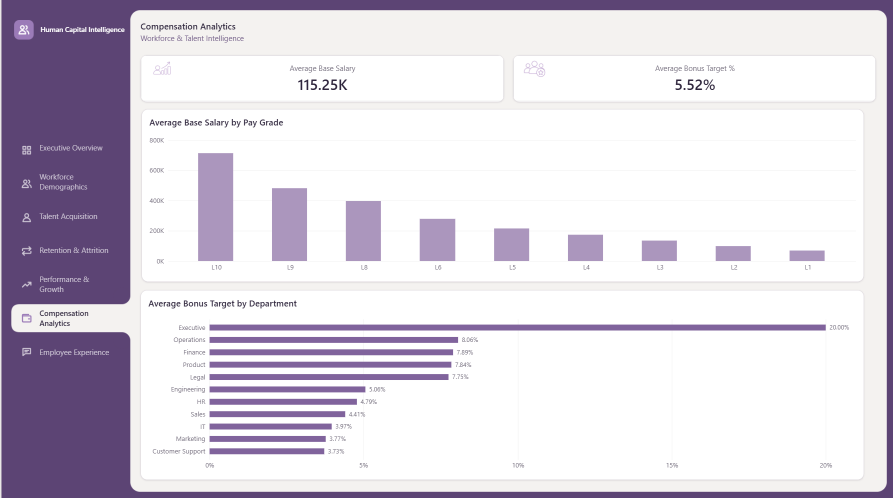

The dashboard page shown, as its layout file describes it:
{"tool":"powerbi","page":{"name":"Compensation Analytics","canvas":[1920,1080],"ordinal":6},"visuals":[{"type":"clusteredColumnChart","title":"Average Base Salary by Pay Grade","fields":{"Category":["fact_compensation_history.PayGrade"],"Y":["fact_promotions.Average Base Salary"]},"box":[300,235.7,1547.1,370.7],"z":0},{"type":"clusteredBarChart","title":"Average Bonus Target by Department","fields":{"Category":["dim_departments.DepartmentName"],"Y":["fact_compensation_history.Average Bonus Target %"]},"box":[297.9,623.6,1549.3,407.1],"z":1000},{"type":"textbox","title":"Company","box":[83,54,266,25],"z":2000},{"type":"textbox","title":"Page title","box":[298,45,292,32],"z":3000},{"type":"textbox","title":"Subtitle","box":[298,73,340,27],"z":4000},{"type":"pageNavigator","title":"Page navigation","box":[82,294,150,492],"z":5000},{"type":"cardVisual","title":"KPI card 1","fields":{"Data":["fact_promotions.Average Base Salary"]},"box":[298.5,119.4,778.1,100.8],"z":6000},{"type":"cardVisual","title":"KPI card 1","fields":{"Data":["fact_compensation_history.Average Bonus Target %"]},"box":[1095.3,119.4,778.1,100.8],"z":7000},{"type":"image","box":[304.3,120,90,50],"z":8000},{"type":"image","box":[1095,120,90,50],"z":9000}]}

Visuals, with their boxes on the page's 1920x1080 design canvas (x1, y1, x2, y2). These are canvas units, not pixel positions in the 893x498 screenshot, which may show the page scaled, cropped or inside an application window:
"Average Base Salary by Pay Grade" clusteredColumnChart: bbox=(300, 236, 1847, 606)
"Average Bonus Target by Department" clusteredBarChart: bbox=(298, 624, 1847, 1031)
"Company" textbox: bbox=(83, 54, 349, 79)
"Page title" textbox: bbox=(298, 45, 590, 77)
"Subtitle" textbox: bbox=(298, 73, 638, 100)
"Page navigation" pageNavigator: bbox=(82, 294, 232, 786)
"KPI card 1" cardVisual: bbox=(298, 119, 1077, 220)
"KPI card 1" cardVisual: bbox=(1095, 119, 1873, 220)
image: bbox=(304, 120, 394, 170)
image: bbox=(1095, 120, 1185, 170)
